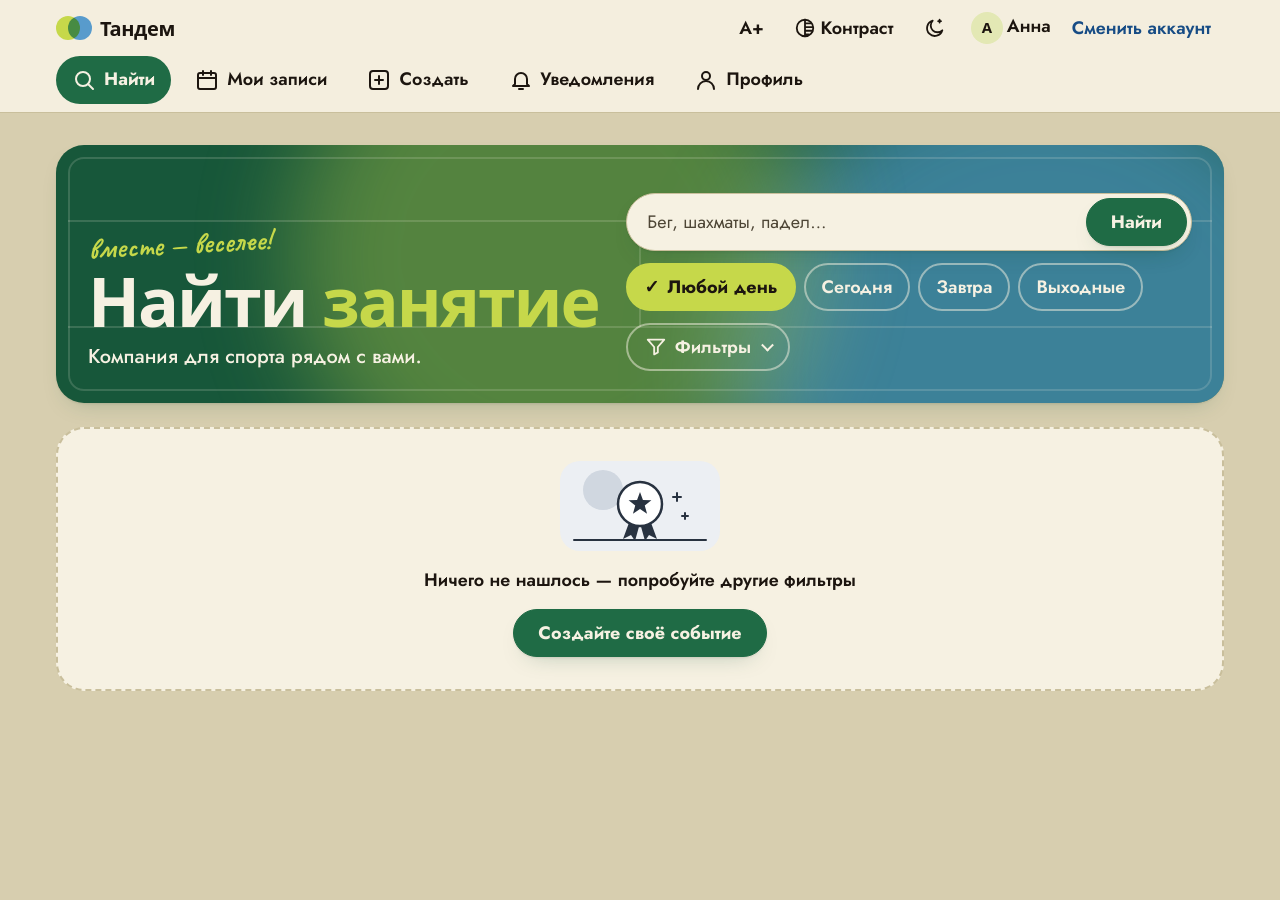
it: переключатели «Крупный текст» и «Высокий контраст» › после сбоя следующее сохранение отправляет обе настройки
This screenshot has width=1280, height=900.
Check: the button "Сменить аккаунт" is shown, box [1059,4,1224,52]
Click the button named "Крупный текст" at x=752, y=28, box [726,4,777,52]
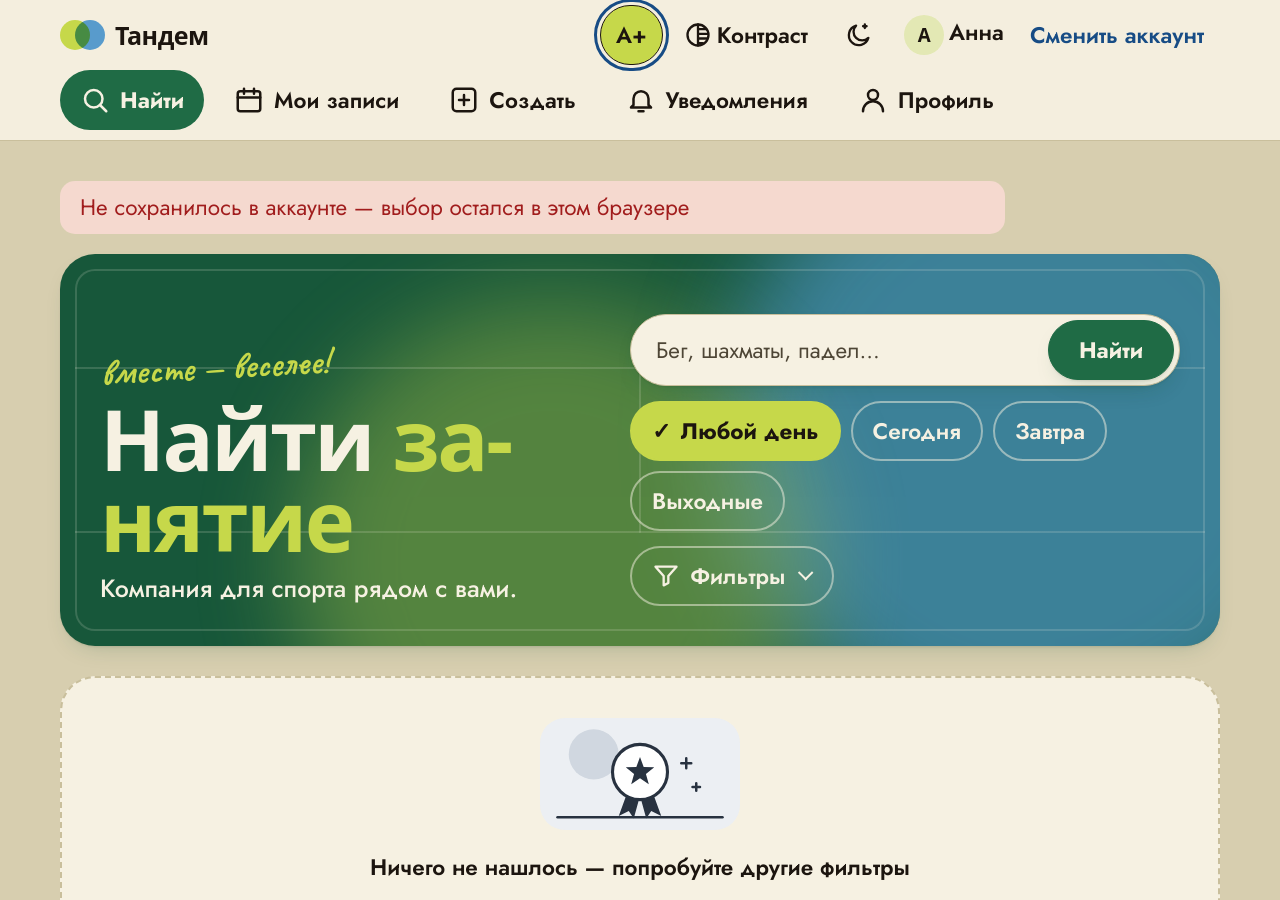
Check: the message "Не сохранилось в аккаунте — выбор остался в этом браузере" is shown, box [60,181,1005,234]
Click the button "Контраст" at x=746, y=35, box [668,5,824,65]
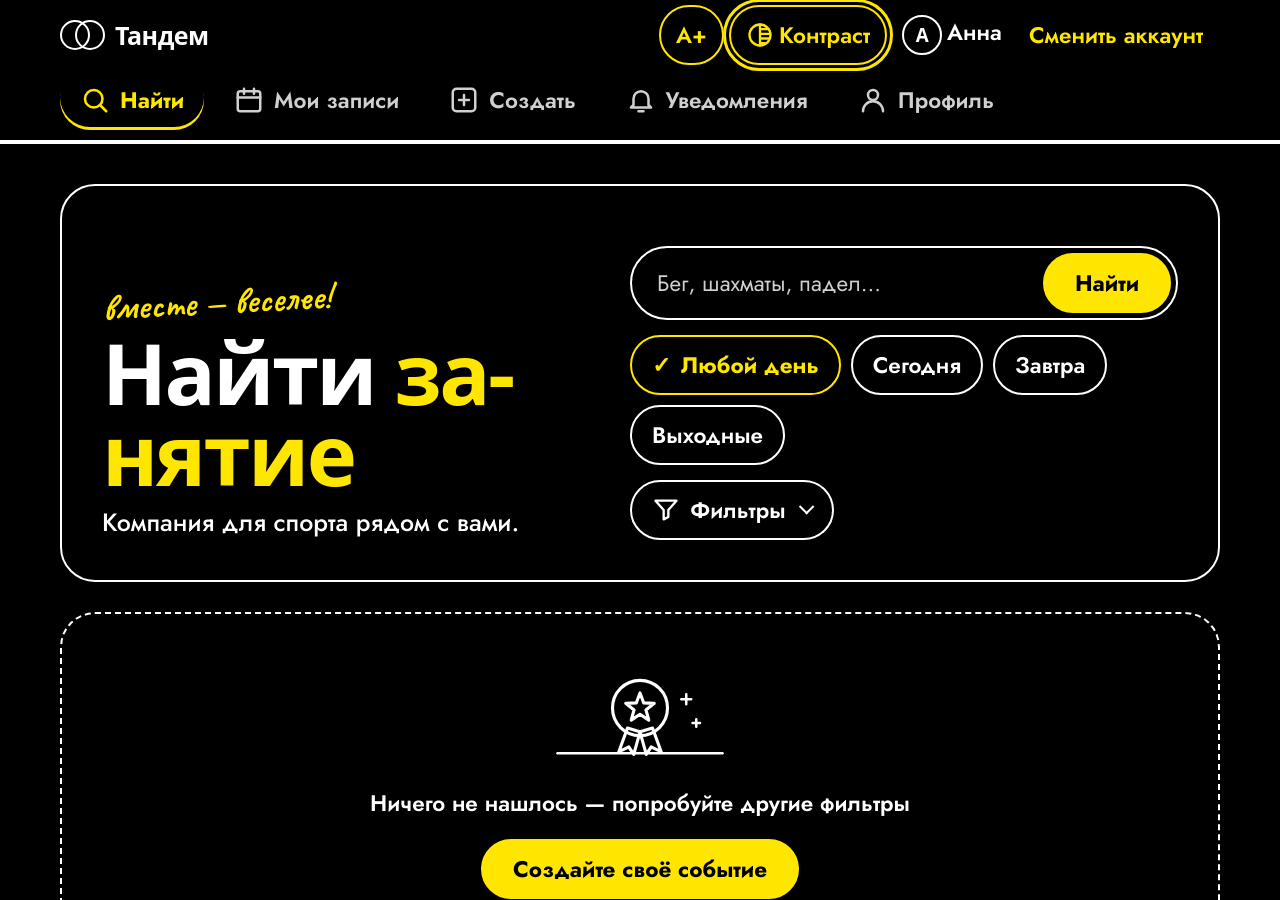
Check: the message "Не сохранилось в аккаунте — выбор остался в этом браузере" is gone
